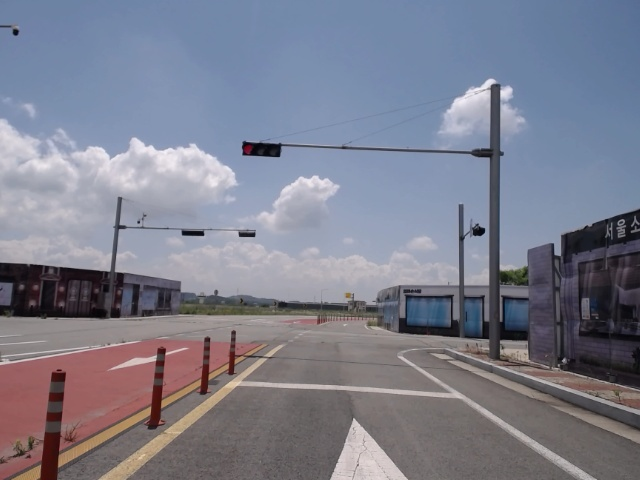red_3: (238, 141, 281, 157)
